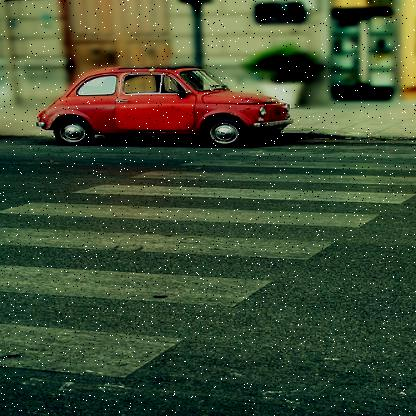car: (34, 60, 298, 148)
